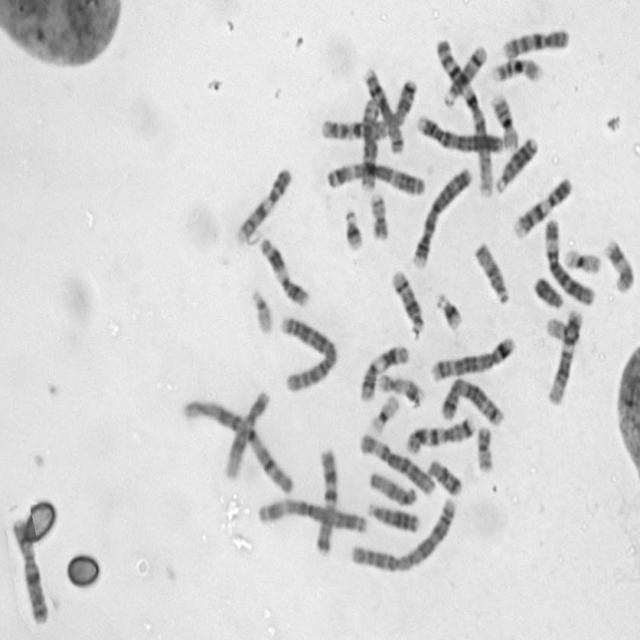A1: (179, 393, 297, 496), (432, 34, 495, 199)
A2: (346, 493, 458, 574), (276, 310, 339, 393)
A3: (254, 494, 369, 536), (322, 156, 427, 198)
B4: (409, 162, 473, 270), (413, 108, 508, 156)
B5: (429, 334, 517, 384), (437, 373, 507, 427)
C10: (498, 23, 571, 60), (318, 114, 389, 142)
C11: (256, 232, 311, 309), (357, 340, 411, 403)
C12: (221, 385, 272, 481), (545, 305, 584, 406)
C6: (358, 426, 437, 496), (541, 213, 597, 307)
C7: (403, 412, 478, 456), (313, 443, 339, 556)
C8: (360, 64, 406, 155), (358, 92, 382, 191)
C9: (233, 163, 293, 244), (511, 172, 574, 240)
D13: (494, 130, 541, 193), (364, 496, 422, 534)
D14: (441, 42, 488, 109), (388, 264, 427, 337)
D15: (471, 238, 511, 306), (366, 467, 419, 508)
E16: (488, 89, 522, 152), (488, 53, 544, 85)
E17: (601, 234, 636, 294), (376, 370, 425, 407)
E18: (425, 452, 465, 497), (390, 76, 418, 126)
F19: (366, 389, 401, 436), (560, 242, 604, 275)
F20: (365, 188, 391, 242), (473, 421, 495, 474)
G21: (432, 287, 464, 332), (342, 205, 365, 252)
G22: (247, 283, 276, 335), (544, 311, 574, 343)
X: (8, 513, 49, 625)
Y: (530, 272, 566, 310)
